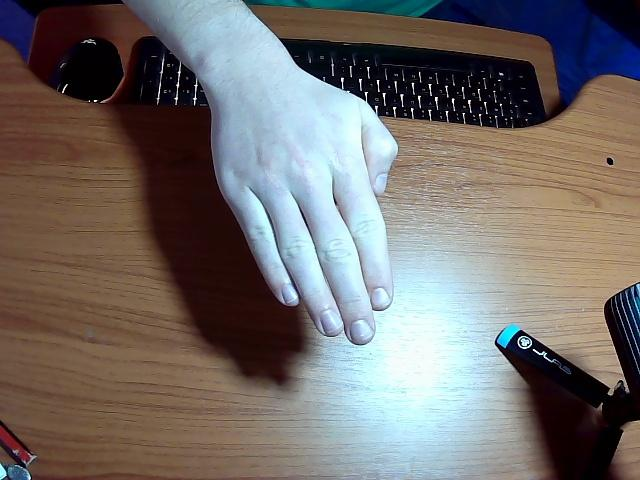paper: (126, 0, 398, 344)
